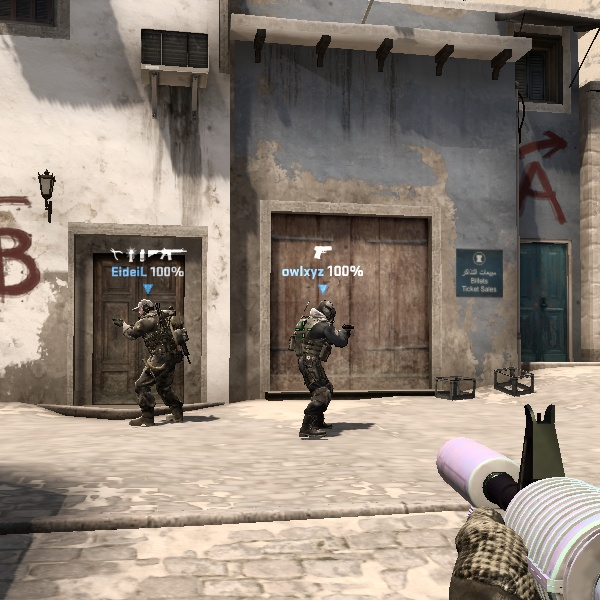ct_body: (116, 290, 196, 426), (287, 299, 362, 441)
ct_head: (129, 295, 157, 321), (314, 296, 339, 325)
